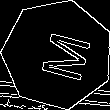M_W: (26, 26, 88, 83)
